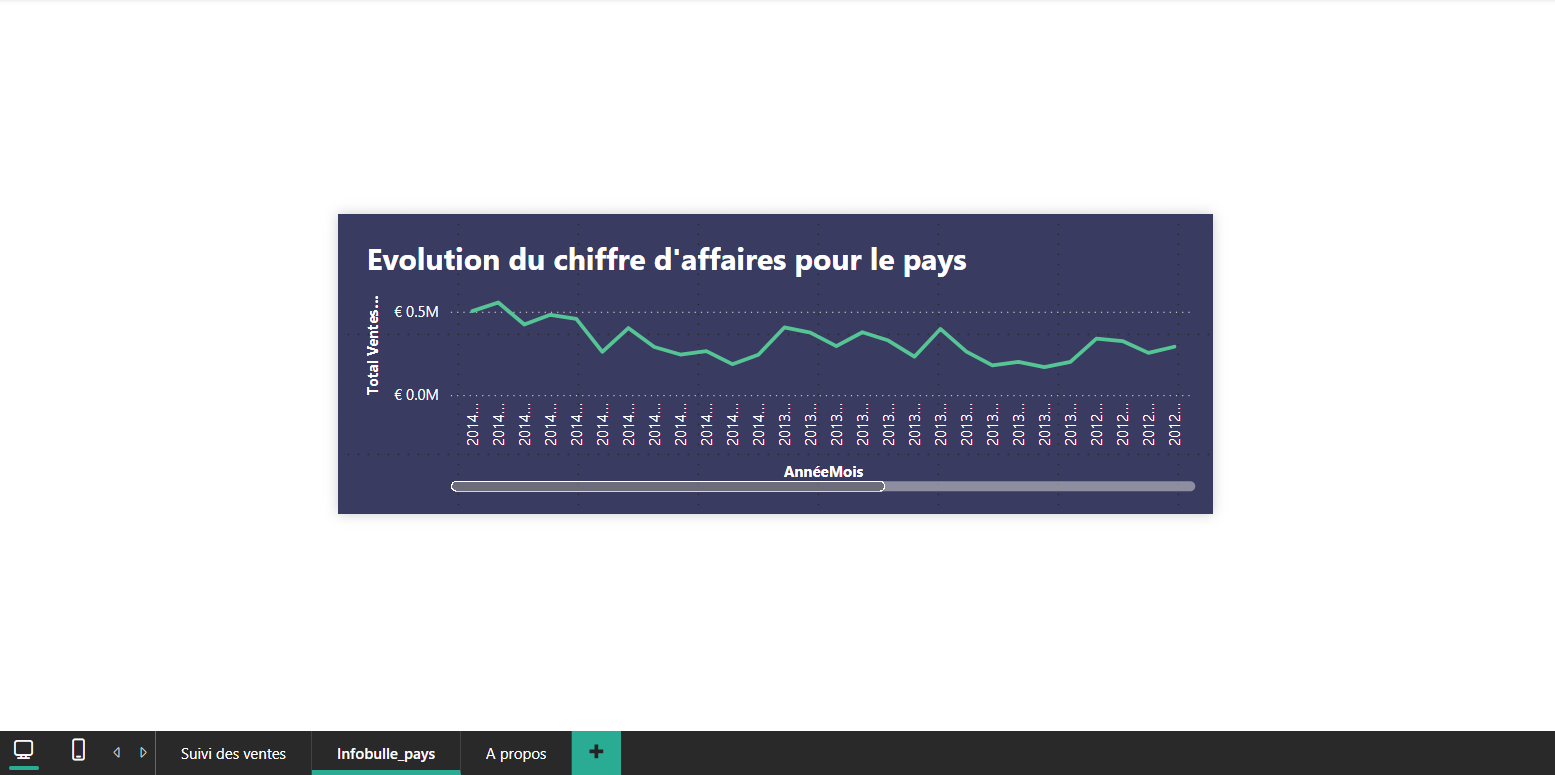

What the dashboard file says about the page in this screenshot:
{"tool":"powerbi","page":{"name":"Infobulle_pays","canvas":[700,240],"ordinal":1},"visuals":[{"type":"lineChart","title":"Evolution du chiffre d''affaires pour le pays","fields":{"Category":["Dim_Dates.AnnéeMois"],"Y":["Mesures.Total Ventes (€)"]},"box":[18,19,673,208],"z":0}]}

Visuals, with their boxes on the page's 700x240 design canvas (x1, y1, x2, y2). These are canvas units, not pixel positions in the 1555x775 screenshot, which may show the page scaled, cropped or inside an application window:
"Evolution du chiffre d''affaires pour le pays" lineChart: box=[18, 19, 691, 227]
